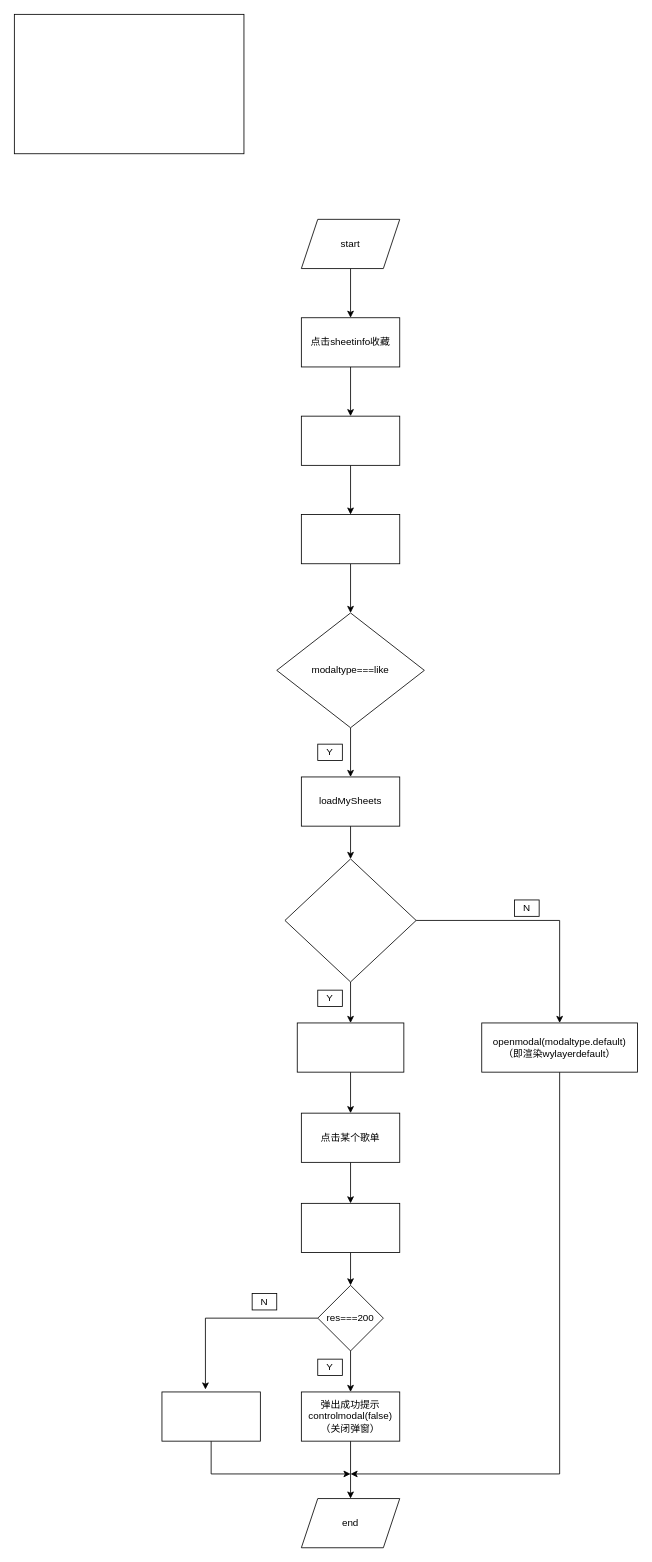
The diagram is 652 pixels wide and 1562 high, and some of its shapes have lost their labels. Each missing label, with the box of its shape:
user是否登录: (284, 858, 416, 982)
wylayerlike流程图 （收藏单首歌曲的流程图）: (14, 14, 244, 154)
wylayermodal组件监听modaltype的变化，如果发生变化，调用watchmodaltype方法: (301, 514, 400, 564)
弹出错误提示: (161, 1391, 260, 1441)
设置modaltype=like 设置likeid=所选歌曲id: (301, 415, 400, 465)
设置modalvisible=true （即渲染wylayerlike）: (296, 1022, 404, 1072)
调用onlikesong方法: (301, 1203, 400, 1253)
